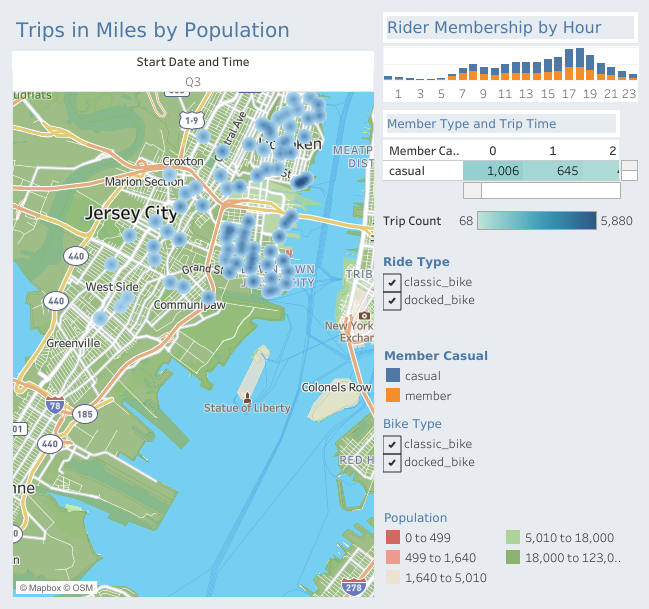

What the dashboard file says about the page in this screenshot:
{"tool":"tableau","page":{"name":"Population and Ridership","canvas":[650,860],"ordinal":0},"visuals":[{"type":"worksheet","title":"Population Density and Mileage","mark":"Heatmap","rows":["start_lat"],"cols":["started_at","start_lng"],"box":[8,10.7,371,838.6]},{"type":"worksheet","title":"Member Type Trips by the Hour","mark":"Bar","rows":["JC-202109-citibike-tripdata.csv_9FB20963EDCC4FF99458A6803AE0"],"cols":["started_at"],"box":[379,10.7,263,149.1]},{"type":"worksheet","title":"Member Type and Trip Time Totals","mark":"Square","rows":["member_casual"],"cols":["started_at"],"box":[379,159.8,263,149.1]},{"type":"legend","title":"Member Type and Trip Time Totals","param":"[federated.1lovvri06t33yk1fihulg1g0wsve].[__tableau_internal_object_id__].[cnt:J","box":[379,308.9,263,61.4]},{"type":"filter","title":"Member Type Trips by the Hour","param":"[federated.1lovvri06t33yk1fihulg1g0wsve].[none:rideable_type:nk]","box":[379,370.3,263,118.9]},{"type":"legend","title":"Member Type Trips by the Hour","param":"[federated.1lovvri06t33yk1fihulg1g0wsve].[none:member_casual:nk]","box":[379,489.2,263,92.1]},{"type":"filter","title":"Member Type and Trip Time Totals","param":"[federated.1lovvri06t33yk1fihulg1g0wsve].[none:rideable_type:nk]","box":[379,581.3,263,118.9]},{"type":"legend","title":"Population Density and Mileage","box":[379,700.2,263,149.1]}]}

Visuals, with their boxes on the page's 650x860 design canvas (x1, y1, x2, y2). These are canvas units, not pixel positions in the 649x609 screenshot, which may show the page scaled, cropped or inside an application window:
"Population Density and Mileage" worksheet (Heatmap marks): select_region(8, 11, 379, 849)
"Member Type Trips by the Hour" worksheet (Bar marks): select_region(379, 11, 642, 160)
"Member Type and Trip Time Totals" worksheet (Square marks): select_region(379, 160, 642, 309)
"Member Type and Trip Time Totals" legend: select_region(379, 309, 642, 370)
"Member Type Trips by the Hour" filter: select_region(379, 370, 642, 489)
"Member Type Trips by the Hour" legend: select_region(379, 489, 642, 581)
"Member Type and Trip Time Totals" filter: select_region(379, 581, 642, 700)
"Population Density and Mileage" legend: select_region(379, 700, 642, 849)
